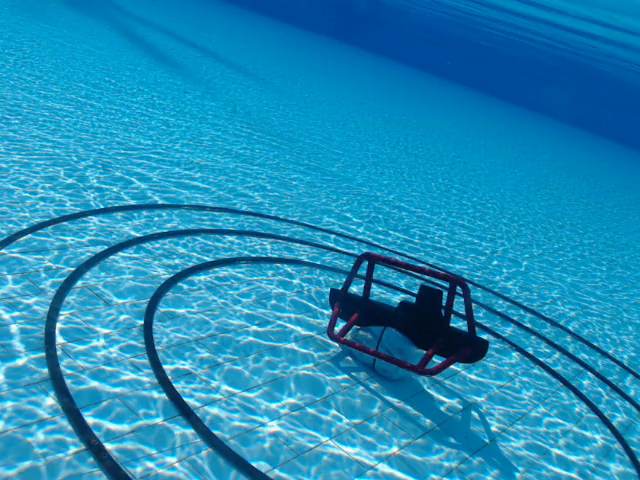submarine: (323, 251, 492, 378)
